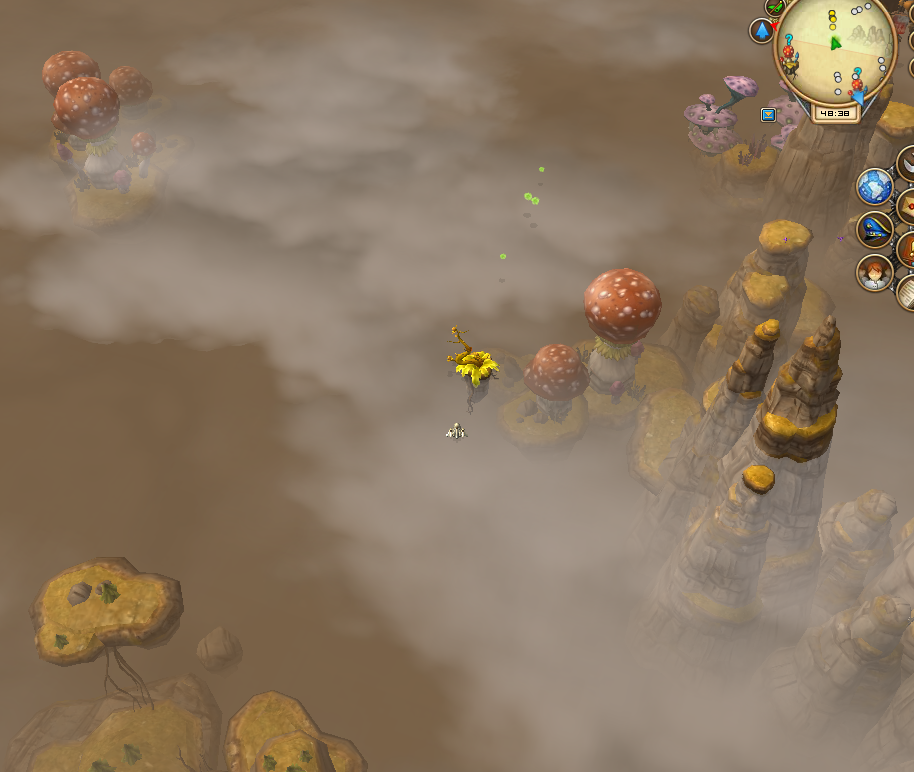dandelion-empty: (442, 318, 505, 399)
fluff: (493, 250, 510, 266), (529, 195, 542, 209), (520, 190, 532, 203), (538, 165, 547, 175)
